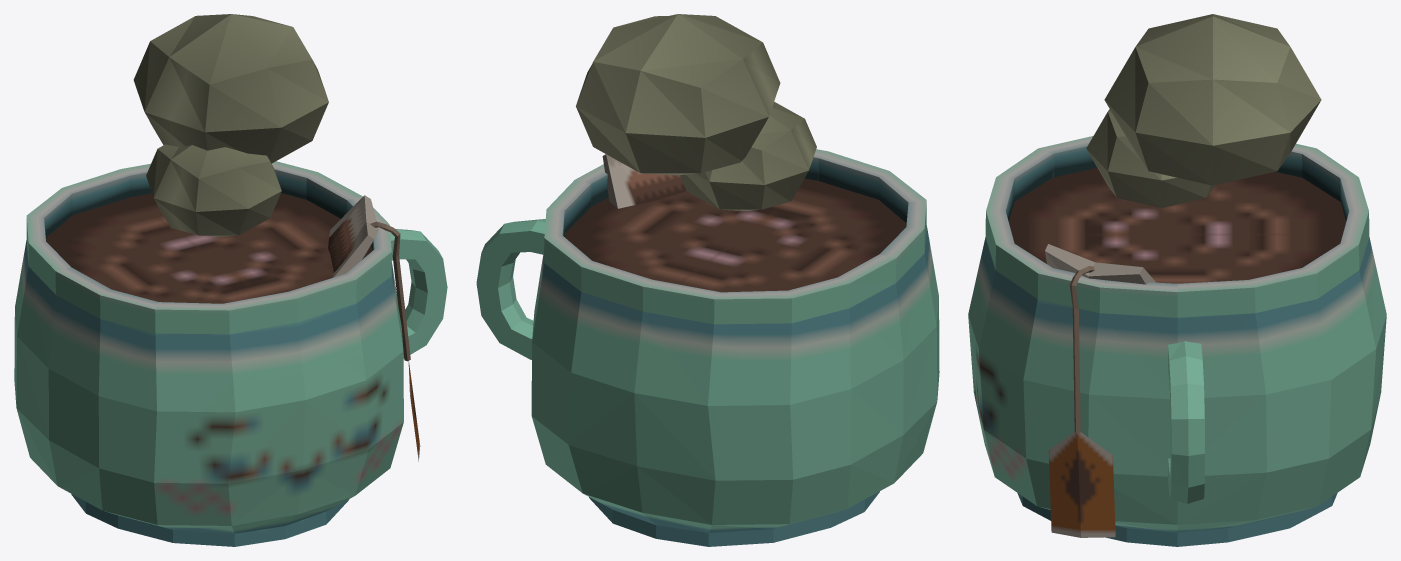
The model's file is chocolate_milk_0_v000.glb.
3 renders of one model, left to right at view 1: azimuth 30°, elevation 25°; view 2: azimuth 150°, elevation 25°; view 3: azimuth 270°, elevation 25°, orthographic. The views are drawn at different scales.
Visible parts, largest first — view 1: world; view 2: world; view 3: world.
Boxes of the visible parts, <box> form: world: <box>14,14,447,546</box>; world: <box>476,14,939,546</box>; world: <box>968,14,1386,546</box>.
Bounding box in the file's own units: 0.3535 × 0.3788 × 0.2959.
1 material, 1 textured.
